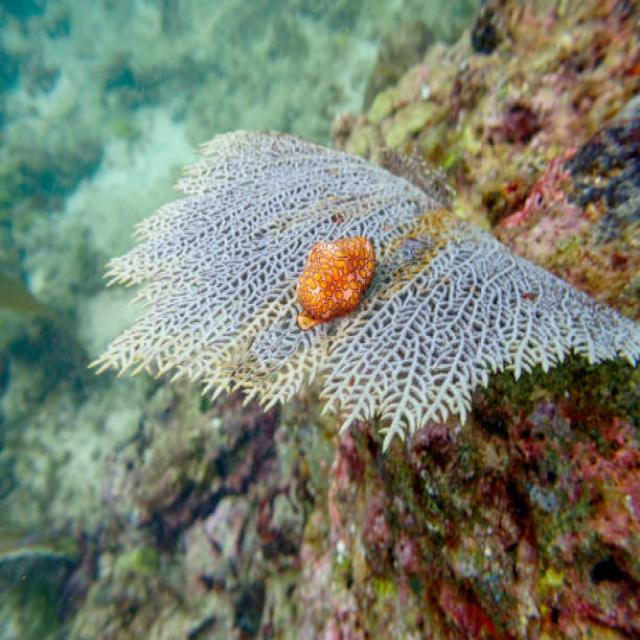Coral: (87, 127, 640, 453)
